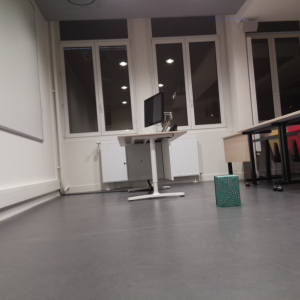small: (212, 174, 244, 207)
